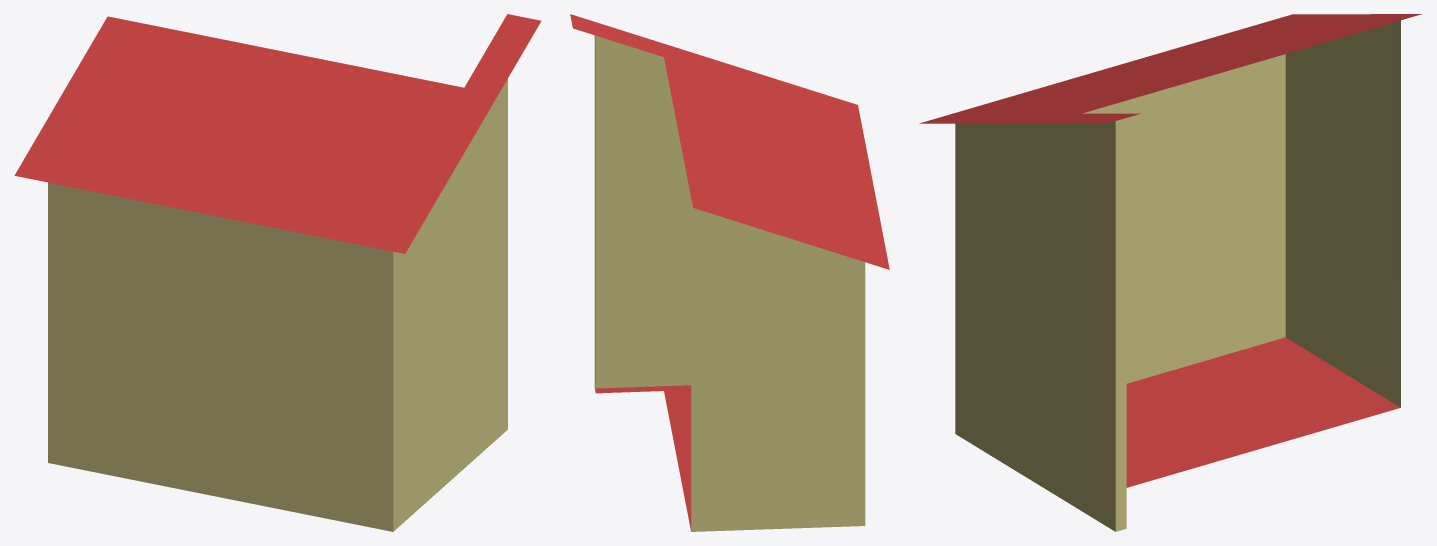
3 renders of one model, left to right at view 1: azimuth 30°, elevation 25°; view 2: azimuth 150°, elevation 25°; view 3: azimuth 270°, elevation 25°, orthographic. The views are drawn at different scales.
Size of the model in its own units: 10.06 by 9.5 by 8.82.
